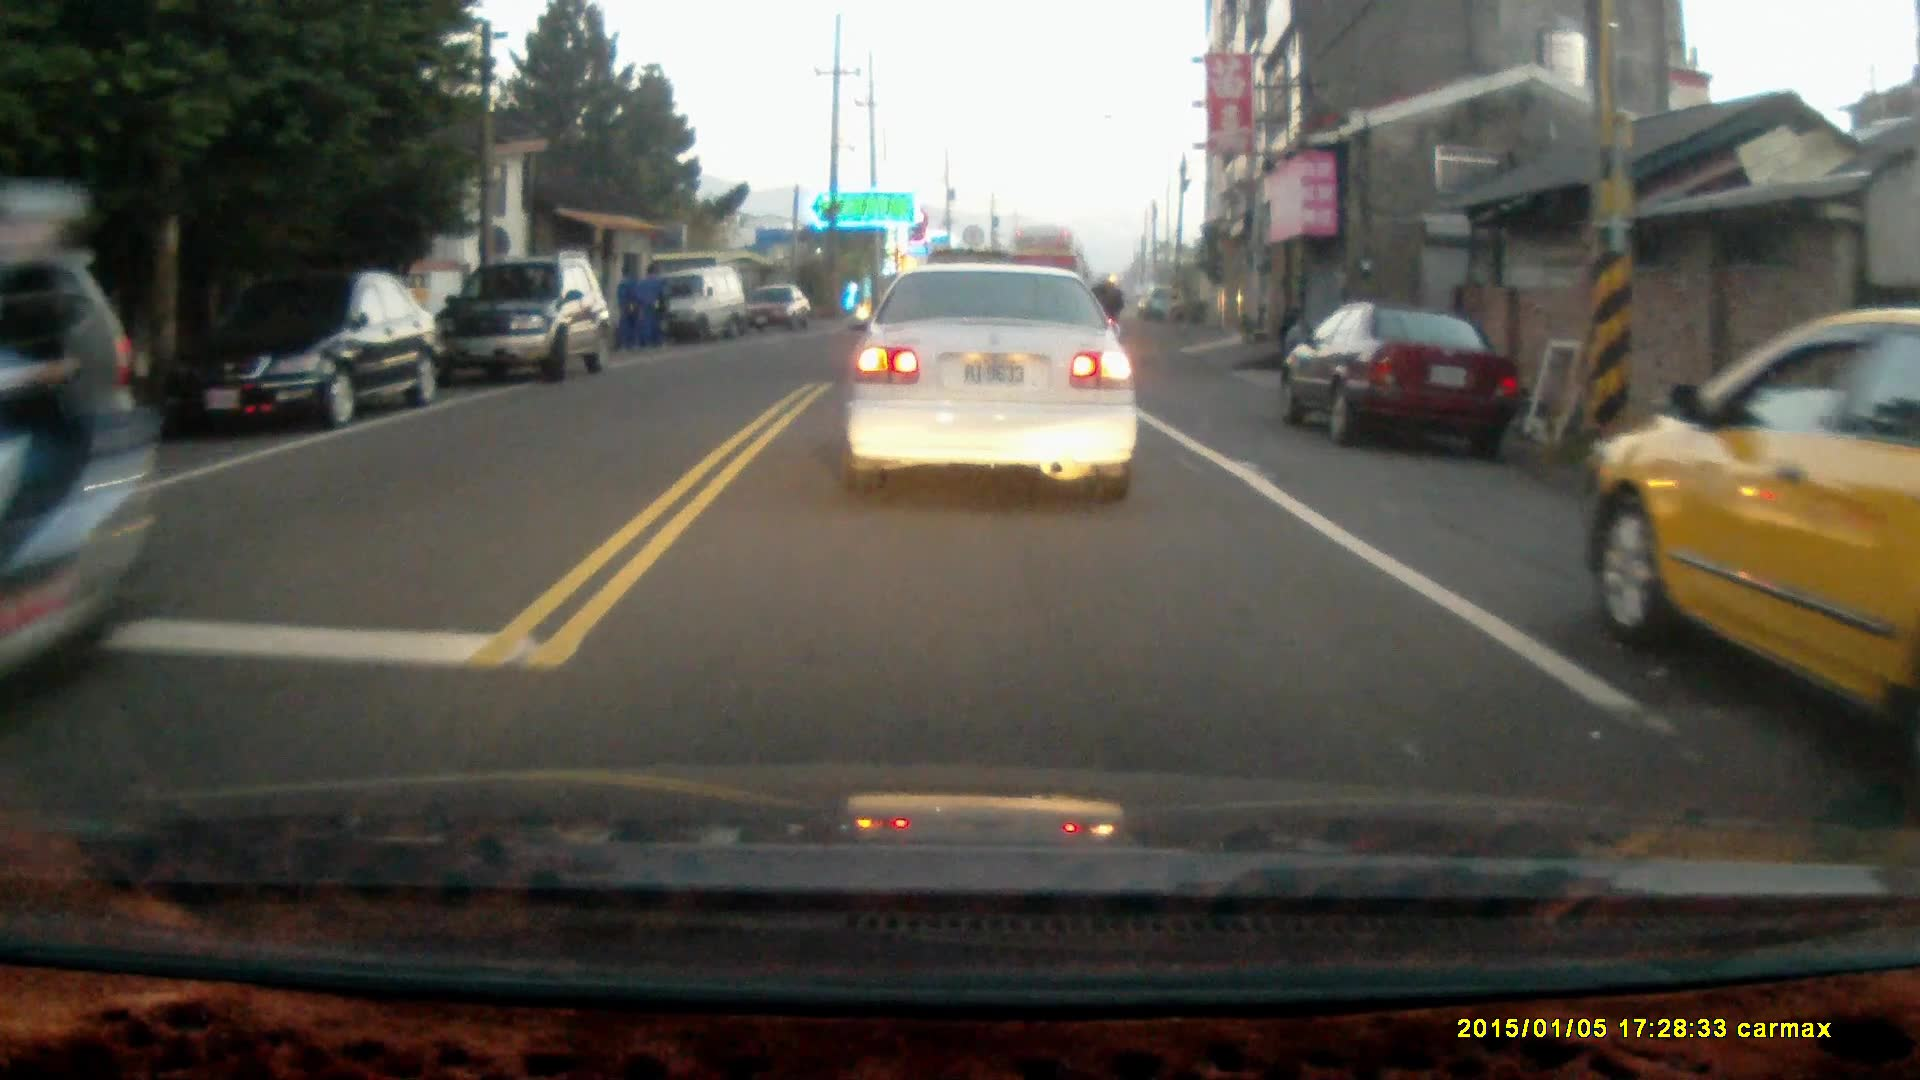pedestrian: (636, 264, 664, 355), (612, 264, 641, 351)
rider: (0, 185, 156, 733)
vehicle: (1580, 308, 1920, 809), (848, 262, 1141, 508), (163, 267, 442, 430), (1280, 300, 1523, 455), (430, 254, 612, 385), (640, 270, 751, 345), (728, 282, 812, 334)
